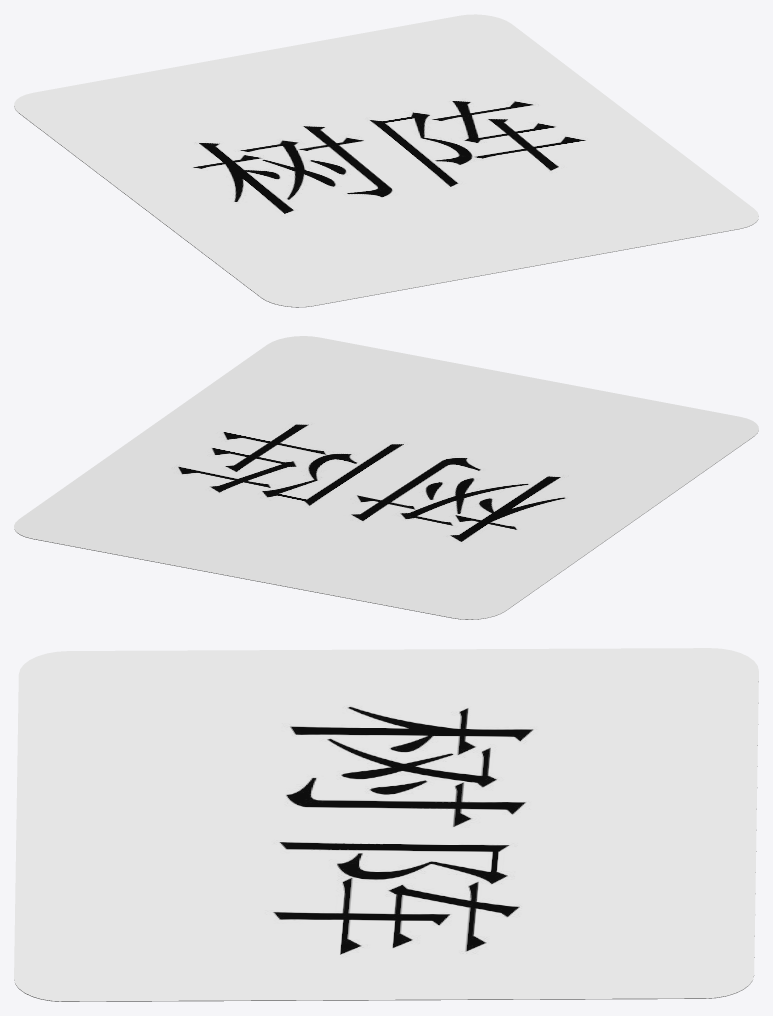
File: ShuZhen.FBX
The picture shows the model from 3 angles, top to bottom: view 1: azimuth 30°, elevation 25°; view 2: azimuth 150°, elevation 25°; view 3: azimuth 270°, elevation 25°; orthographic projection. The views are drawn at different scales.
Visible parts, largest first — view 1: Rectangle001; view 2: Rectangle001; view 3: Rectangle001.
Part boxes in pixels (x1,y1,x2,y2): Rectangle001: (14, 14, 758, 307); Rectangle001: (14, 336, 758, 619); Rectangle001: (14, 648, 758, 1001).
Bounding box in the file's own units: 60.32 × 3.91 × 60.38.
